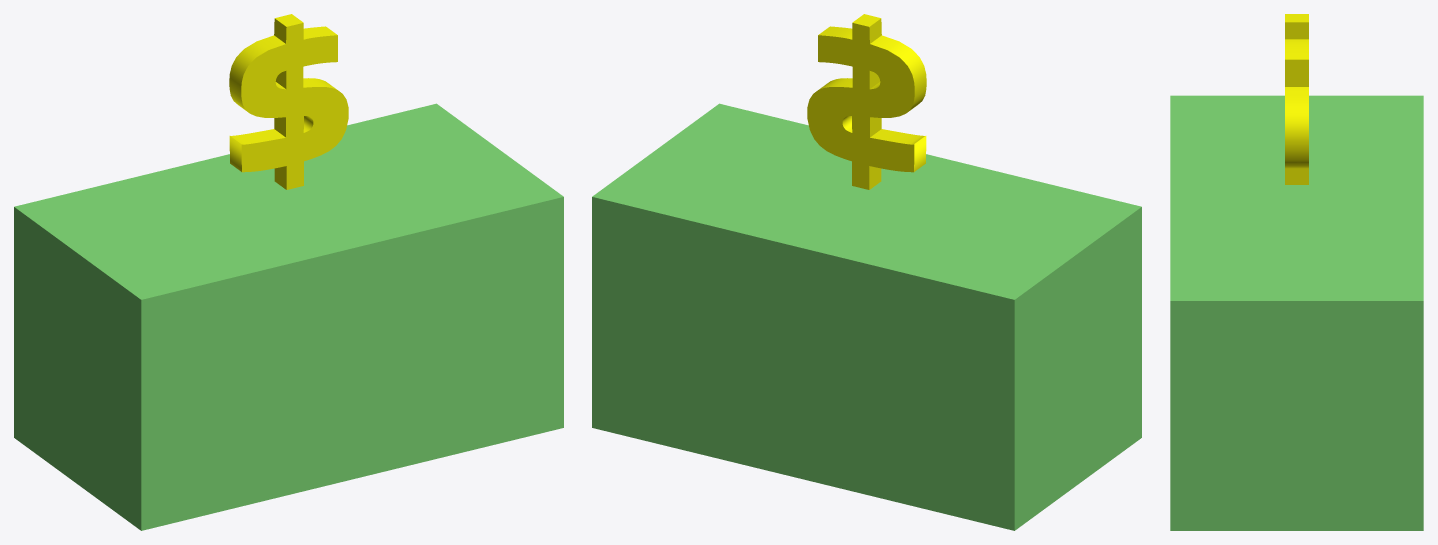
The model's file is dollar.gltf.
The picture shows the model from 3 angles, left to right: view 1: azimuth 30°, elevation 25°; view 2: azimuth 150°, elevation 25°; view 3: azimuth 270°, elevation 25°; orthographic projection.
Visible parts, largest first — view 1: Brick_usd, Dollar; view 2: Brick_usd, Dollar; view 3: Brick_usd, Dollar.
Part boxes in pixels (x1,y1,x2,y2): Brick_usd: (14, 103, 563, 530); Dollar: (229, 14, 348, 189); Brick_usd: (592, 103, 1141, 530); Dollar: (807, 14, 926, 189); Brick_usd: (1170, 95, 1423, 530); Dollar: (1285, 14, 1308, 184).
Bounding box in the file's own units: 0.3988 × 0.3717 × 0.2081.
